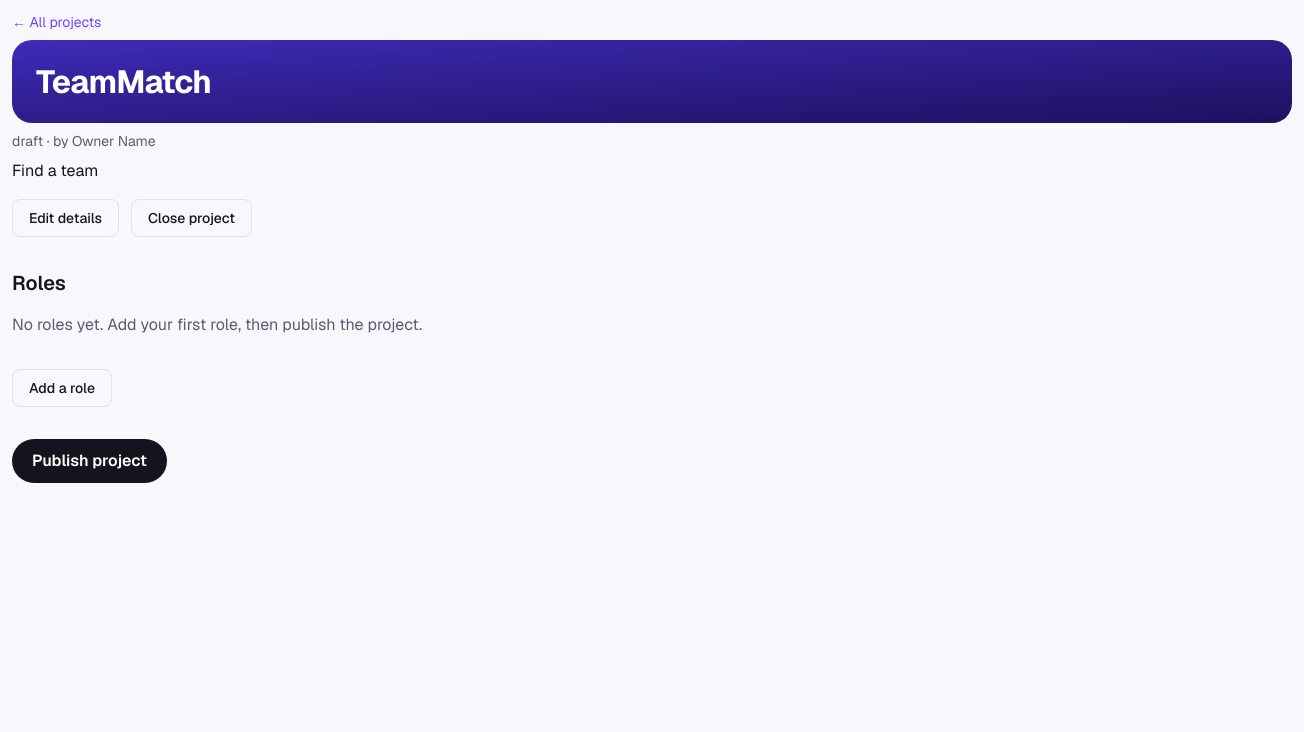
edits the title and pitch of a draft project
Click the button "Edit details". click: (66, 218)
box: 12,199 -> 119,237
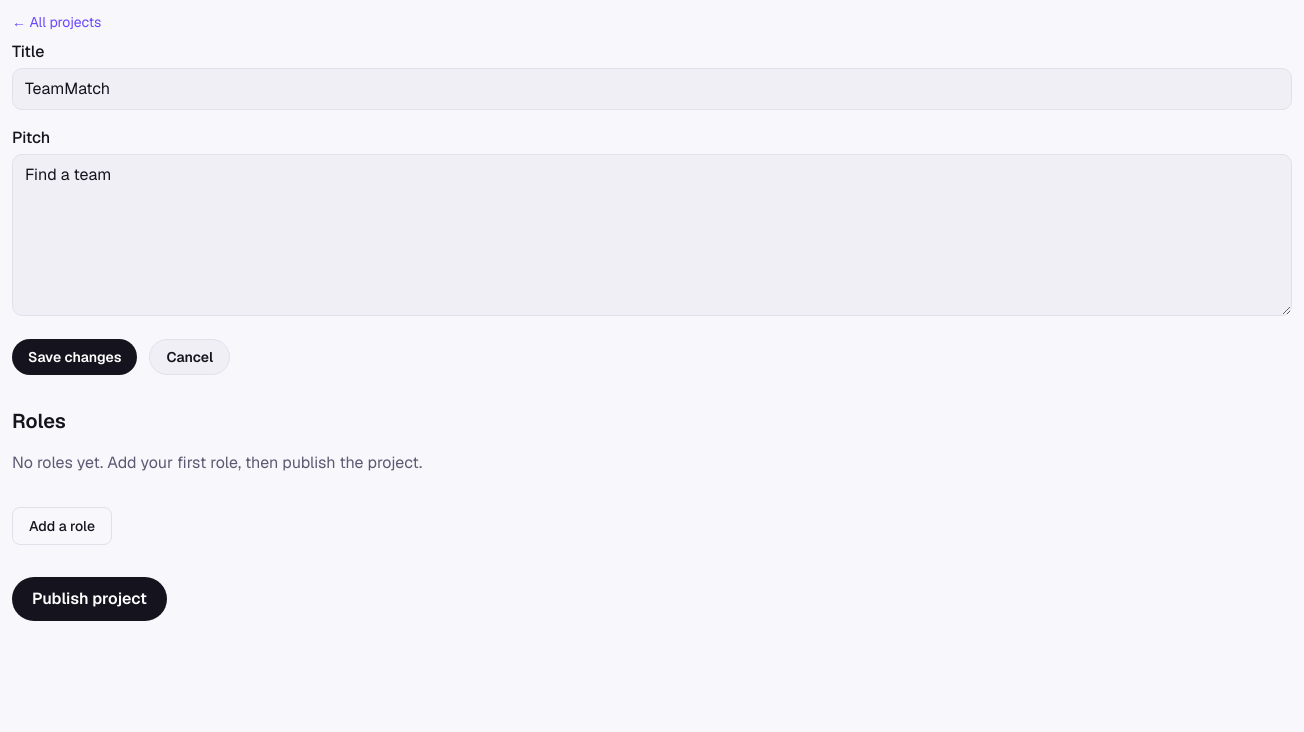
Replace the text in the field labelled "Title" with "TeamMatch v2". click: (652, 89)
box: 12,68 -> 1292,110
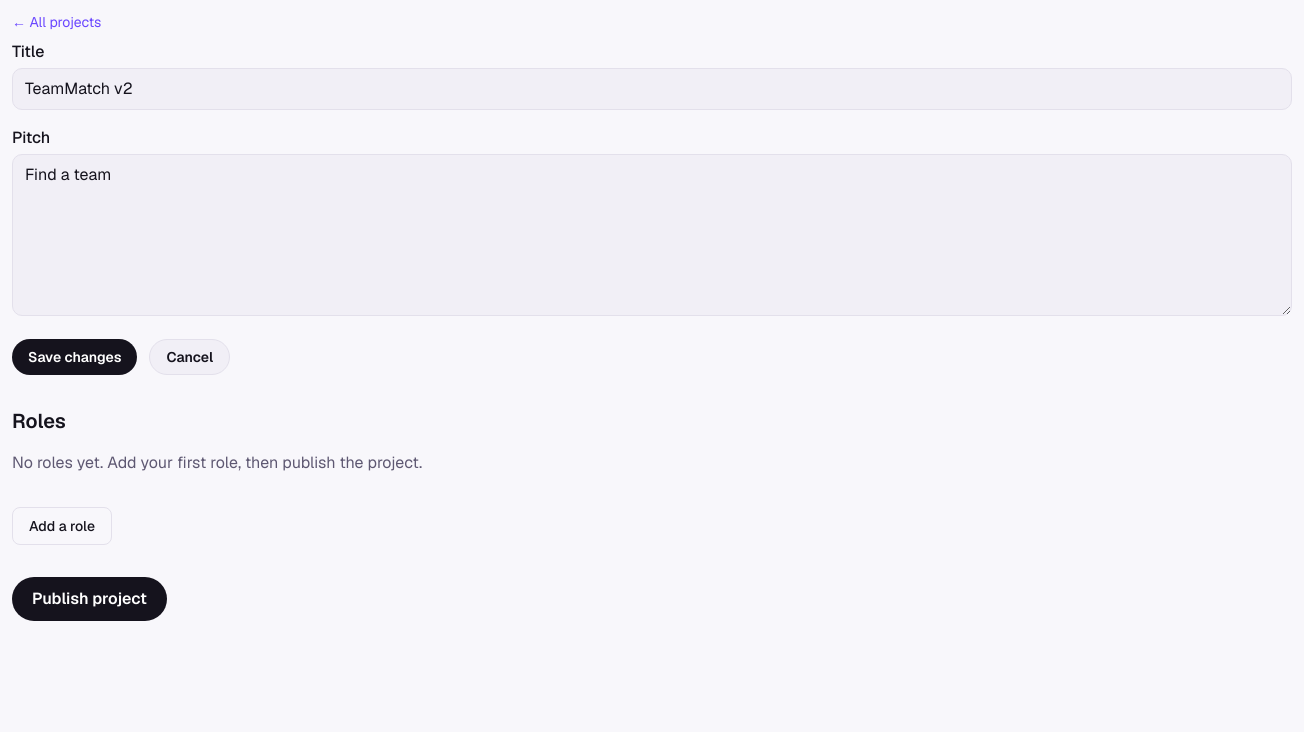
Replace the text in the text box labelled "Pitch" with "Find a team fast". click: (652, 235)
box: 12,154 -> 1292,316
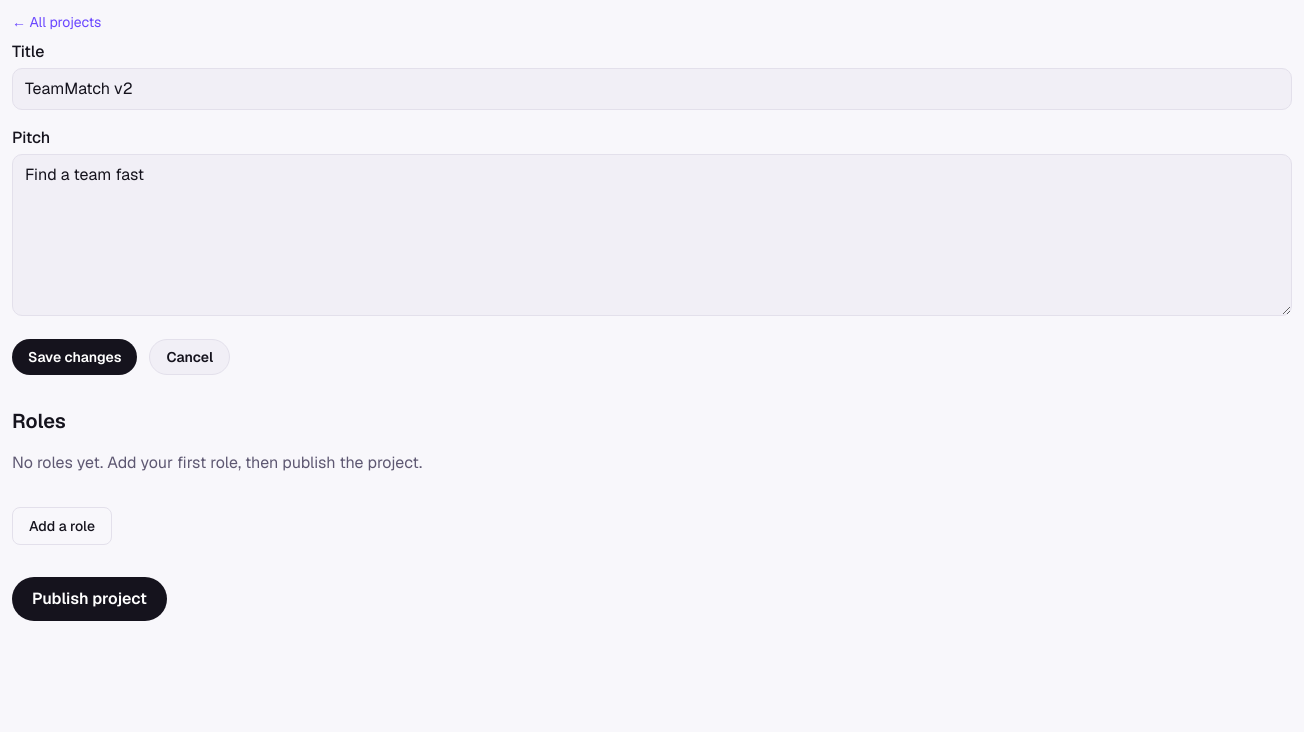
Click the button "Save changes". click: (75, 357)
box: 12,339 -> 138,375
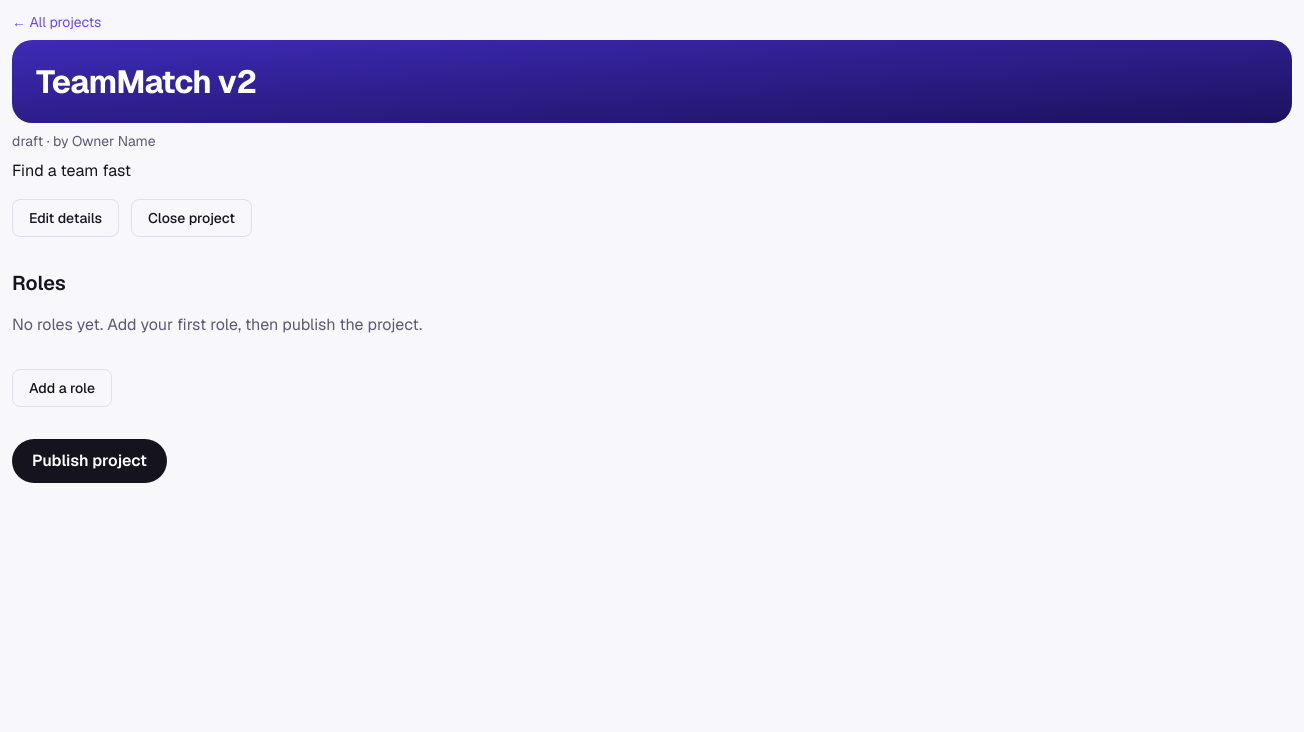
Check: the heading "TeamMatch v2" is shown, box 36,61 -> 256,102
Check: the label labelled "Title" is gone
